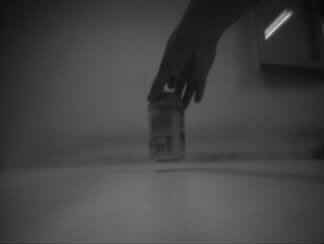Tin can: (147, 90, 186, 162)
